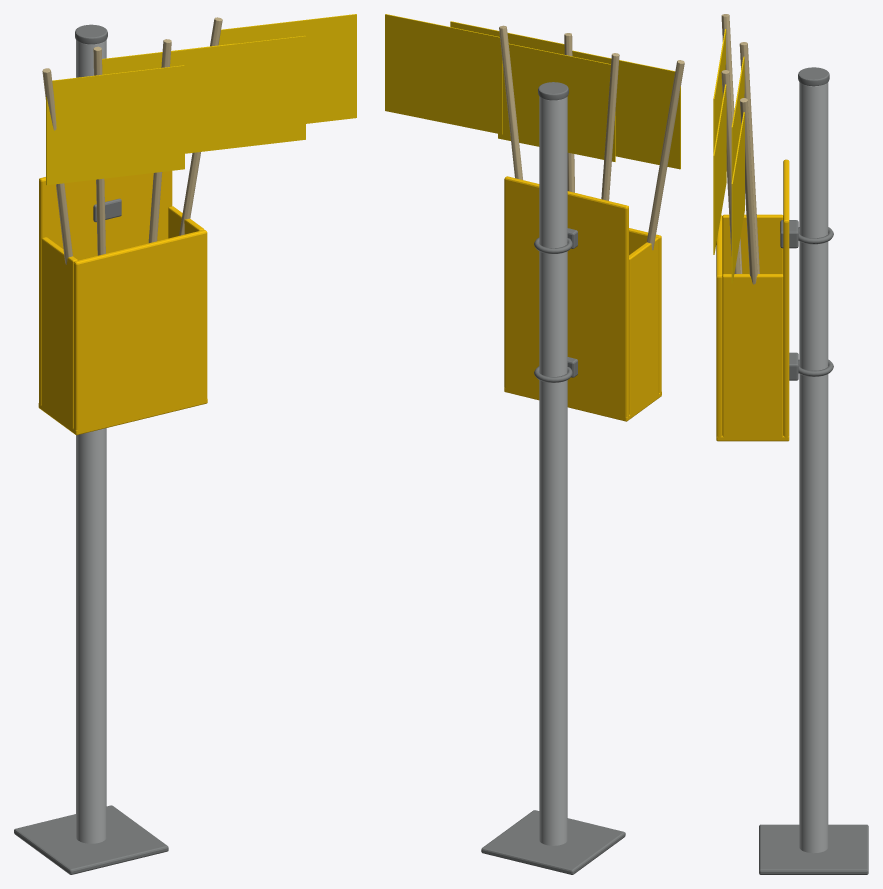
The model's file is city-crossing-flag-holder.glb.
3 views of the same model, side by side, from view 1: azimuth 30°, elevation 25°; view 2: azimuth 150°, elevation 25°; view 3: azimuth 270°, elevation 25° (orthographic). The views are drawn at different scales.
Visible parts, largest first — view 1: Assembly | Yellow flag box, Assembly | Plain yellow flag cloth, Assembly | Galvanized post, Assembly | Clamp steel, Assembly | Natural bamboo stick; view 2: Assembly | Yellow flag box, Assembly | Plain yellow flag cloth, Assembly | Galvanized post, Assembly | Clamp steel, Assembly | Natural bamboo stick; view 3: Assembly | Galvanized post, Assembly | Yellow flag box, Assembly | Clamp steel, Assembly | Plain yellow flag cloth, Assembly | Natural bamboo stick.
Part boxes in pixels (<box>): Assembly | Yellow flag box: <box>38,171,207,435</box>; Assembly | Plain yellow flag cloth: <box>46,14,356,185</box>; Assembly | Galvanized post: <box>76,40,106,843</box>; Assembly | Clamp steel: <box>14,24,168,874</box>; Assembly | Natural bamboo stick: <box>42,17,222,264</box>; Assembly | Yellow flag box: <box>504,176,661,421</box>; Assembly | Plain yellow flag cloth: <box>385,14,680,169</box>; Assembly | Galvanized post: <box>539,96,567,845</box>; Assembly | Clamp steel: <box>481,82,625,874</box>; Assembly | Natural bamboo stick: <box>499,25,684,250</box>; Assembly | Galvanized post: <box>799,82,828,853</box>; Assembly | Yellow flag box: <box>716,159,789,441</box>; Assembly | Clamp steel: <box>759,67,868,874</box>; Assembly | Plain yellow flag cloth: <box>713,29,744,283</box>; Assembly | Natural bamboo stick: <box>721,14,759,284</box>.
Size of the model in its own units: 0.5764 by 1.44 by 0.255.
